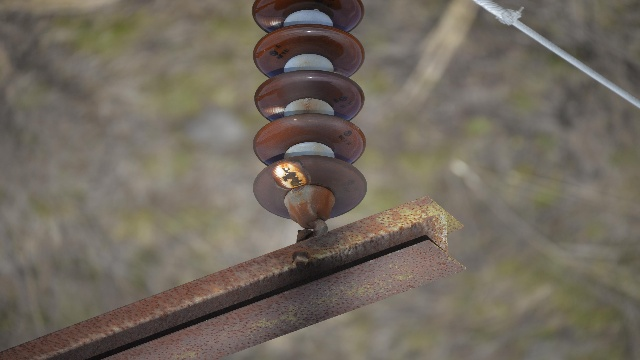insulator_unspecified: (251, 0, 369, 220)
pollution_flashover_local: (272, 161, 309, 190), (255, 12, 286, 33), (264, 104, 284, 121)
